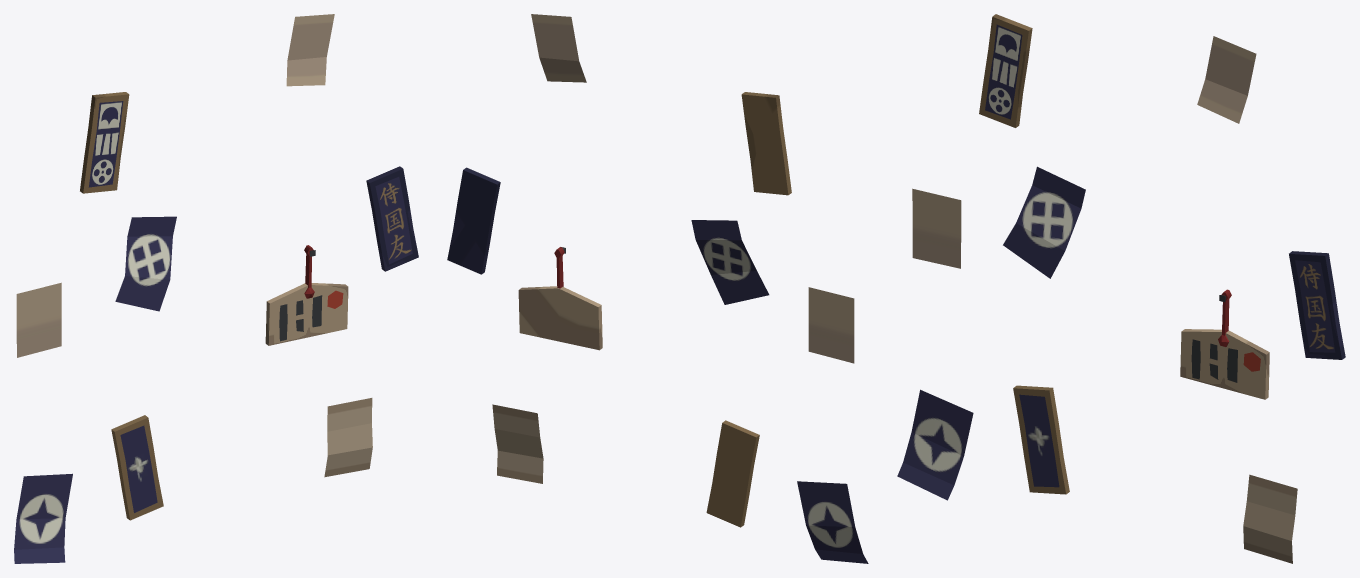
The model's file is samurai_SM_Prop_Prayer_Letters_06.gltf.
The picture shows the model from 3 angles, left to right: view 1: azimuth 30°, elevation 25°; view 2: azimuth 150°, elevation 25°; view 3: azimuth 330°, elevation 25°; orthographic projection. The views are drawn at different scales.
Parts seen in each view (by area): view 1: SM_Prop_Prayer_Letters_06; view 2: SM_Prop_Prayer_Letters_06; view 3: SM_Prop_Prayer_Letters_06.
Boxes of the visible parts, bbox=[...] form: SM_Prop_Prayer_Letters_06: bbox=[14, 14, 418, 563]; SM_Prop_Prayer_Letters_06: bbox=[447, 14, 868, 563]; SM_Prop_Prayer_Letters_06: bbox=[897, 14, 1345, 563].
Size of the model in its own units: 1.95 by 2.2 by 0.0739.
1 material, 1 textured.
